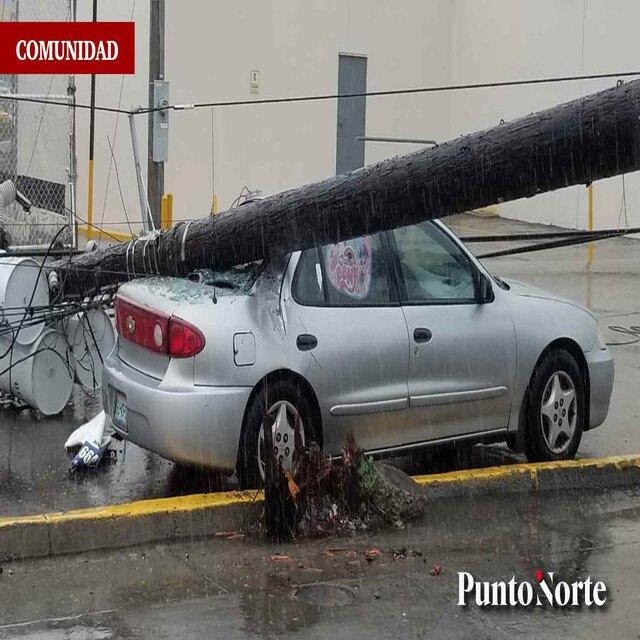Inclined Pole: (0, 73, 640, 465)
